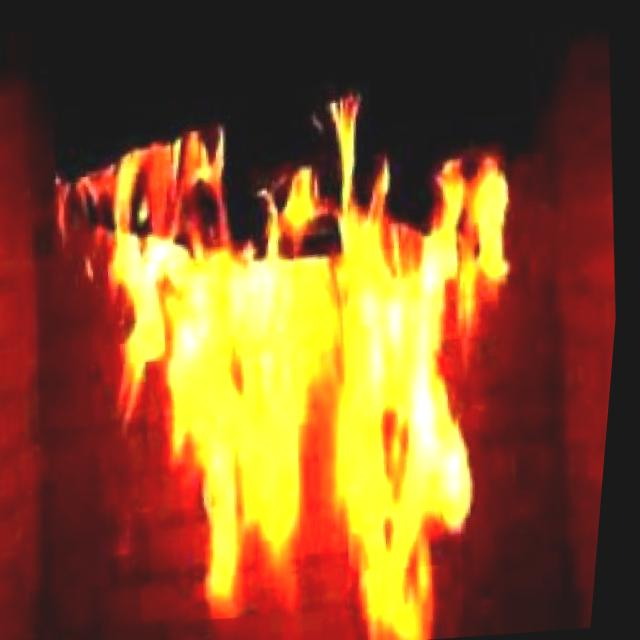helmet: (12, 50, 569, 640)
